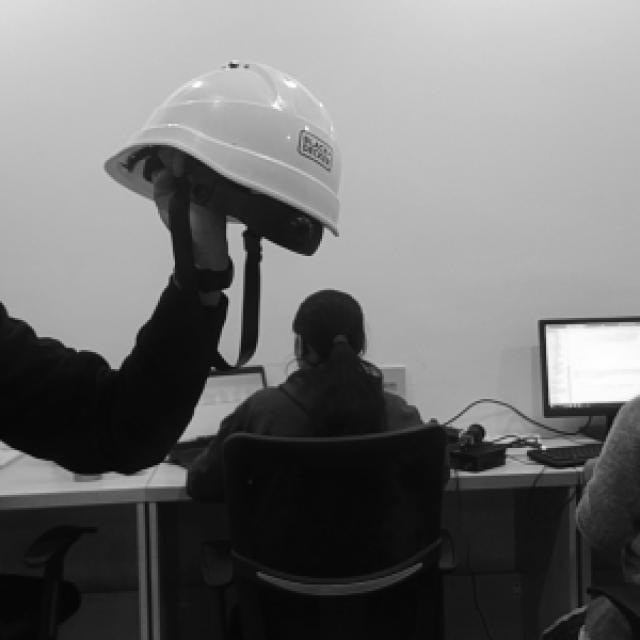safety_helmet: (105, 66, 339, 235)
